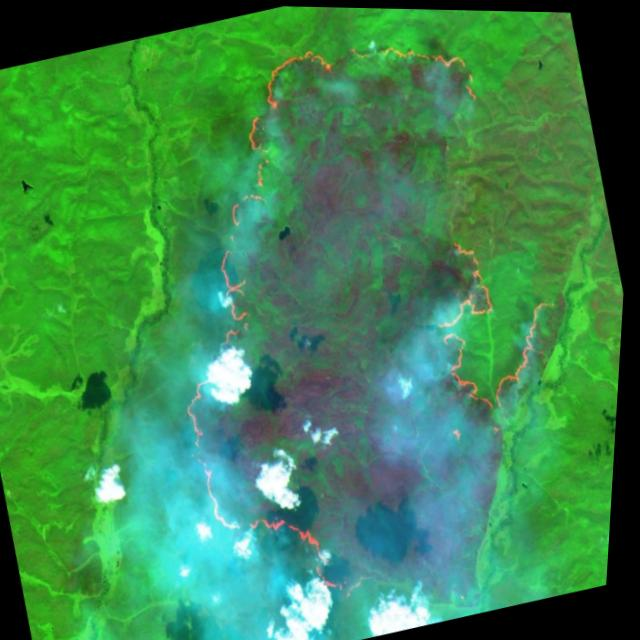fire: (96, 2, 640, 640)
